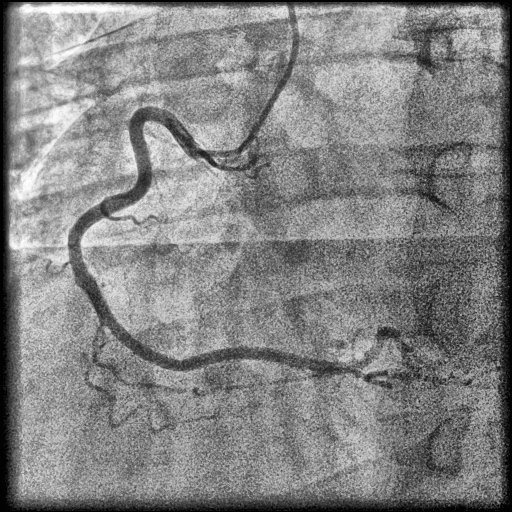pborca: (355, 326, 409, 368)
pda: (351, 369, 449, 384)
rca: (68, 107, 356, 373)
